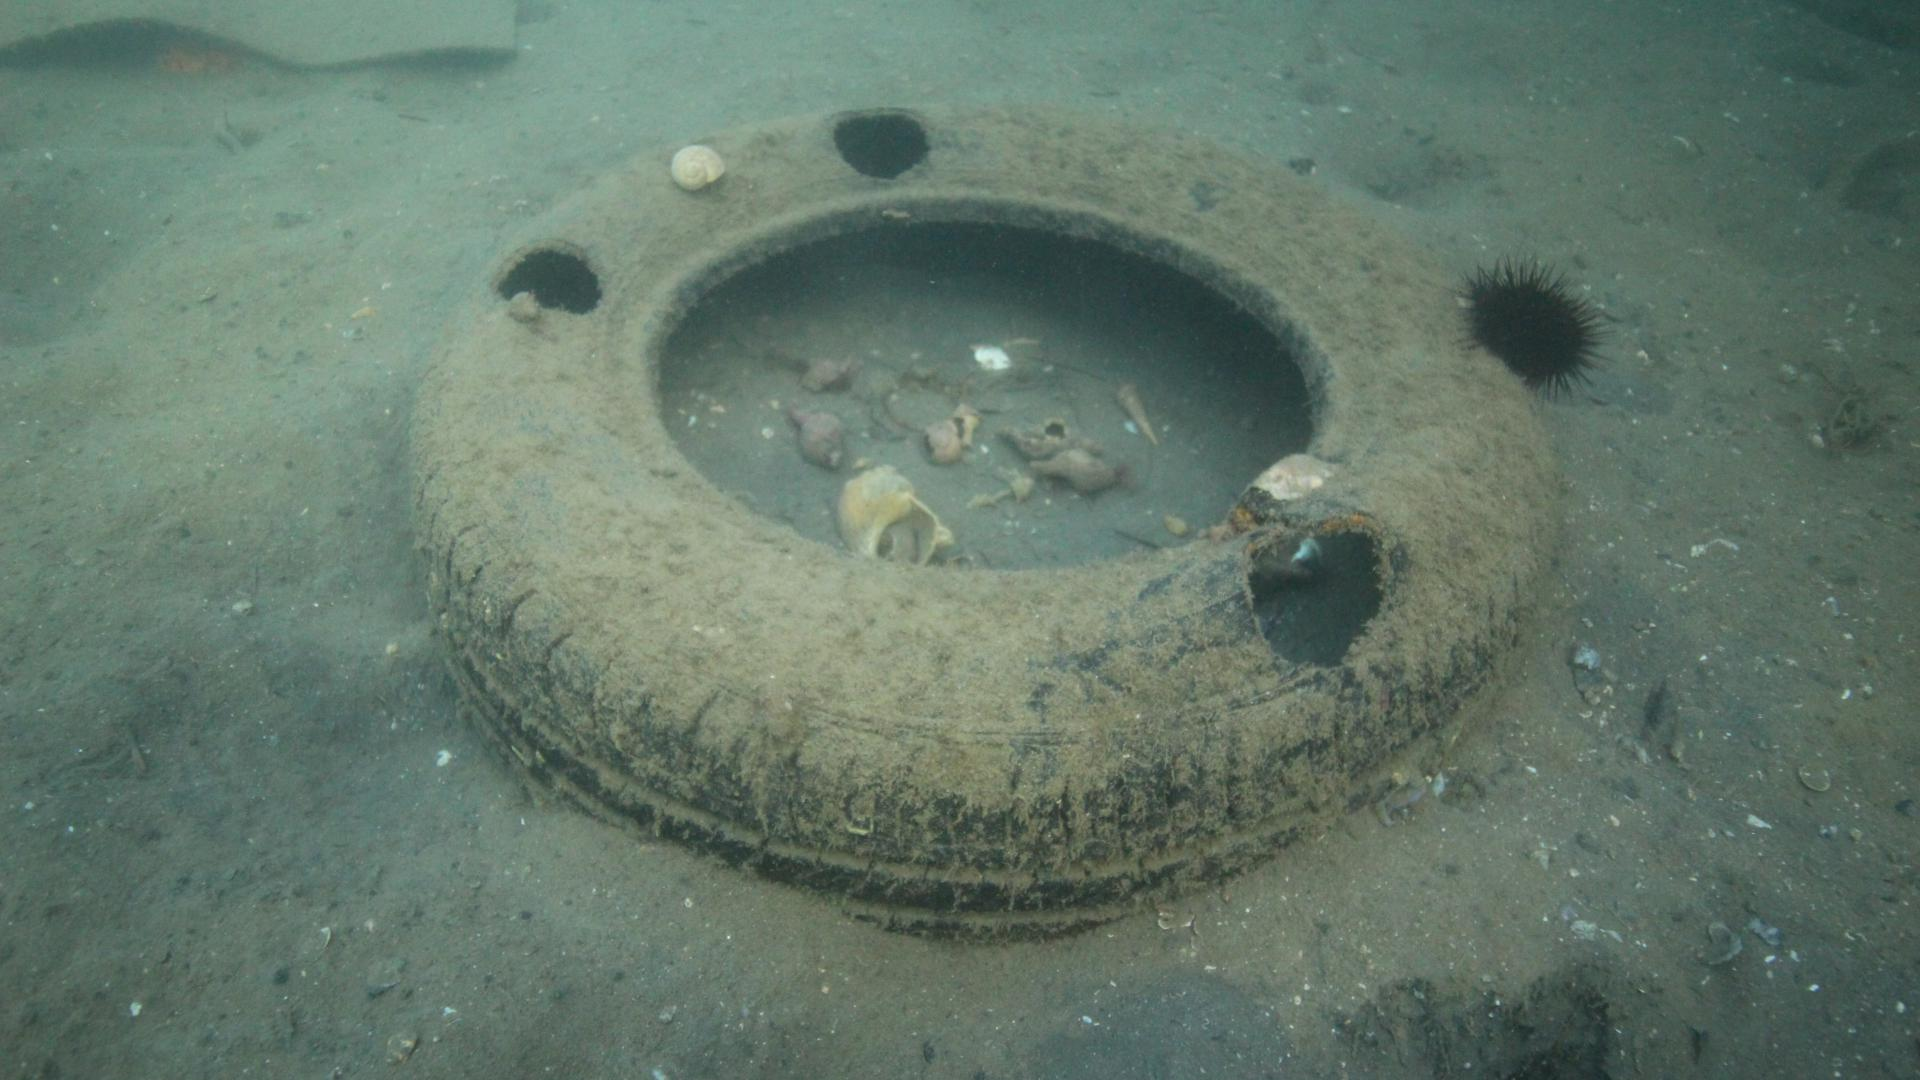tire: (404, 99, 1561, 947)
